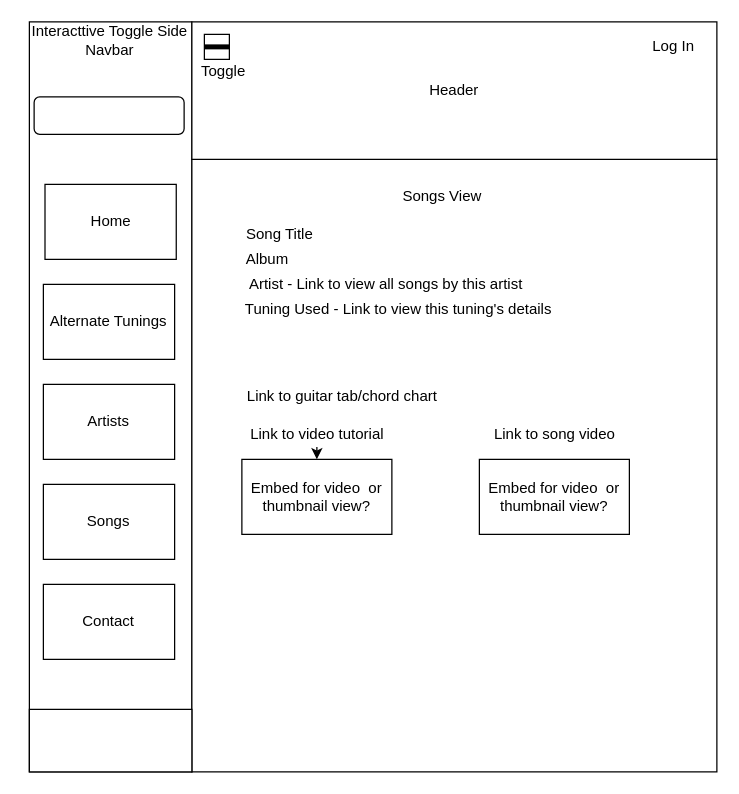
Image size: 739x794. Some labels were removed from this diagram. Each missing label, with the centre of its shape:
"Footer" belongs at point 110,740.
"Search Bar" belongs at point 108,115.
